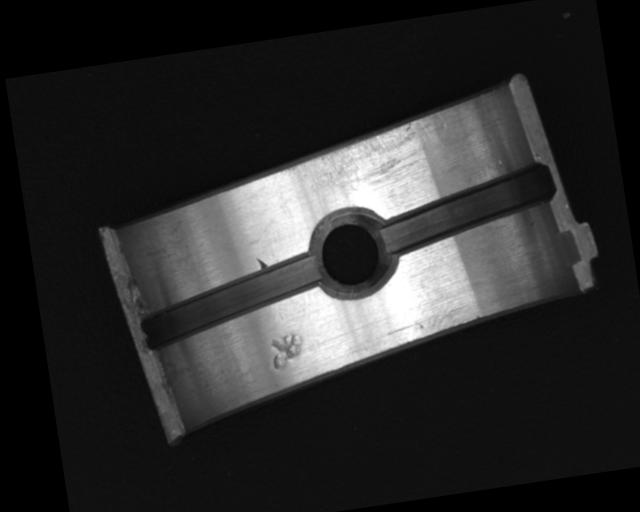bruise: (266, 331, 307, 372), (254, 254, 268, 271)
gap: (131, 252, 327, 349), (374, 162, 561, 258)
hole: (305, 204, 400, 302)
scratch: (284, 107, 456, 209)
